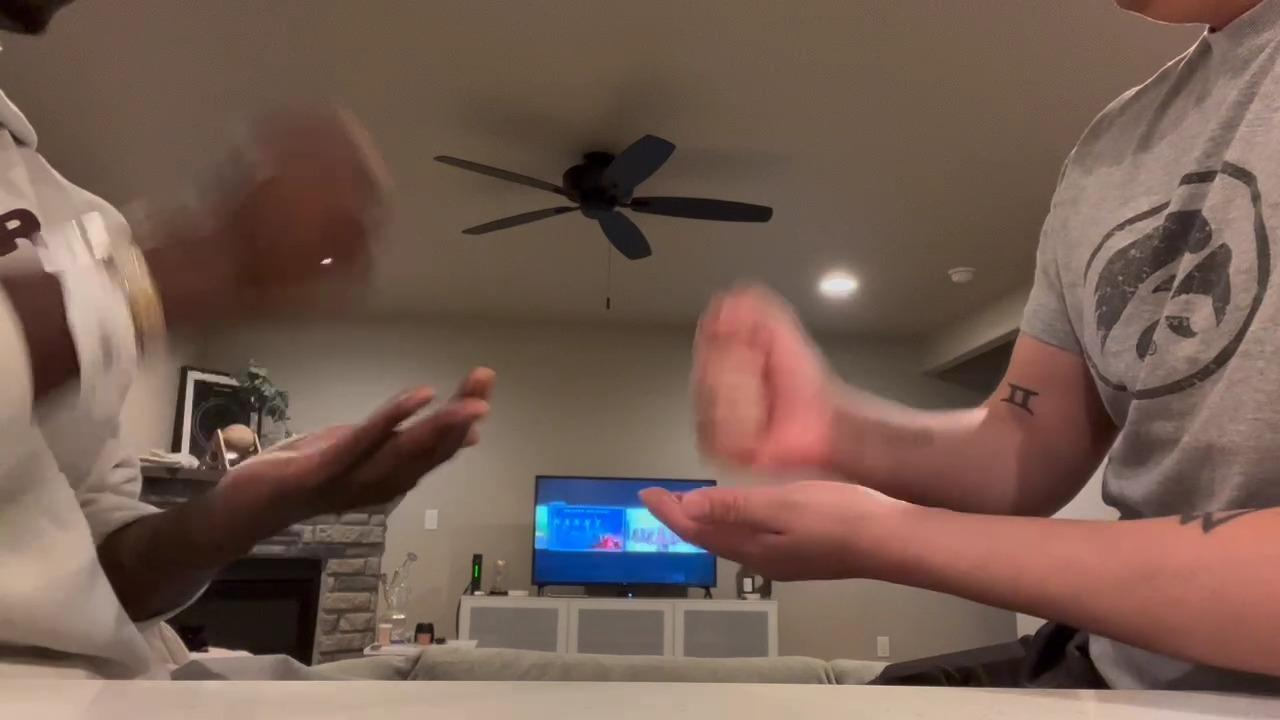Rock: (218, 100, 391, 303), (692, 280, 835, 478)
